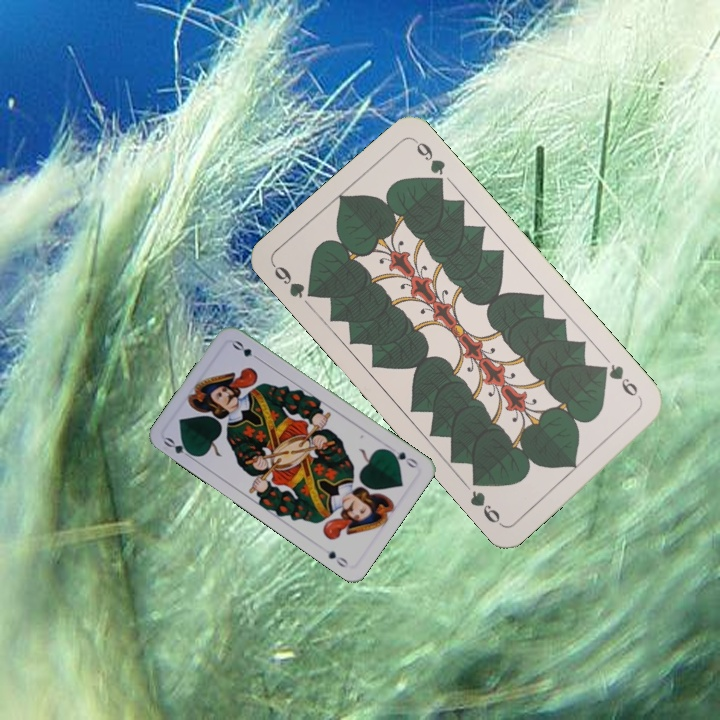G9: (595, 360, 645, 404), (269, 260, 321, 301)
GO: (160, 433, 198, 463), (383, 445, 421, 471)
